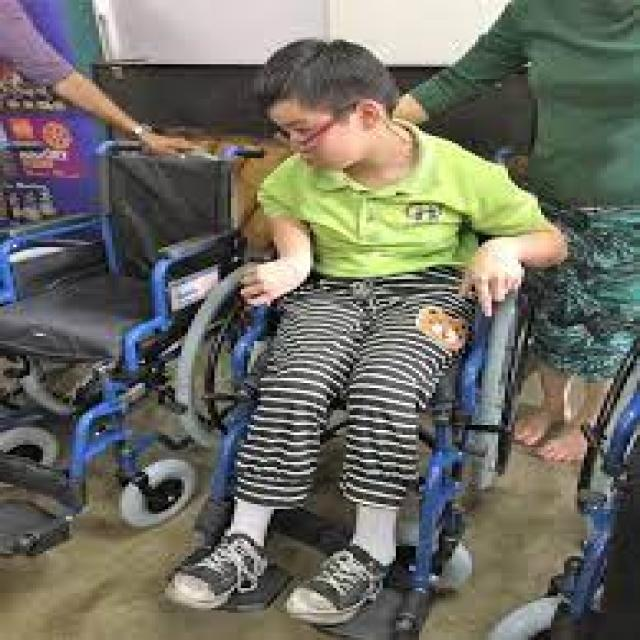wheelchairs: (158, 126, 588, 640), (1, 126, 255, 588)
